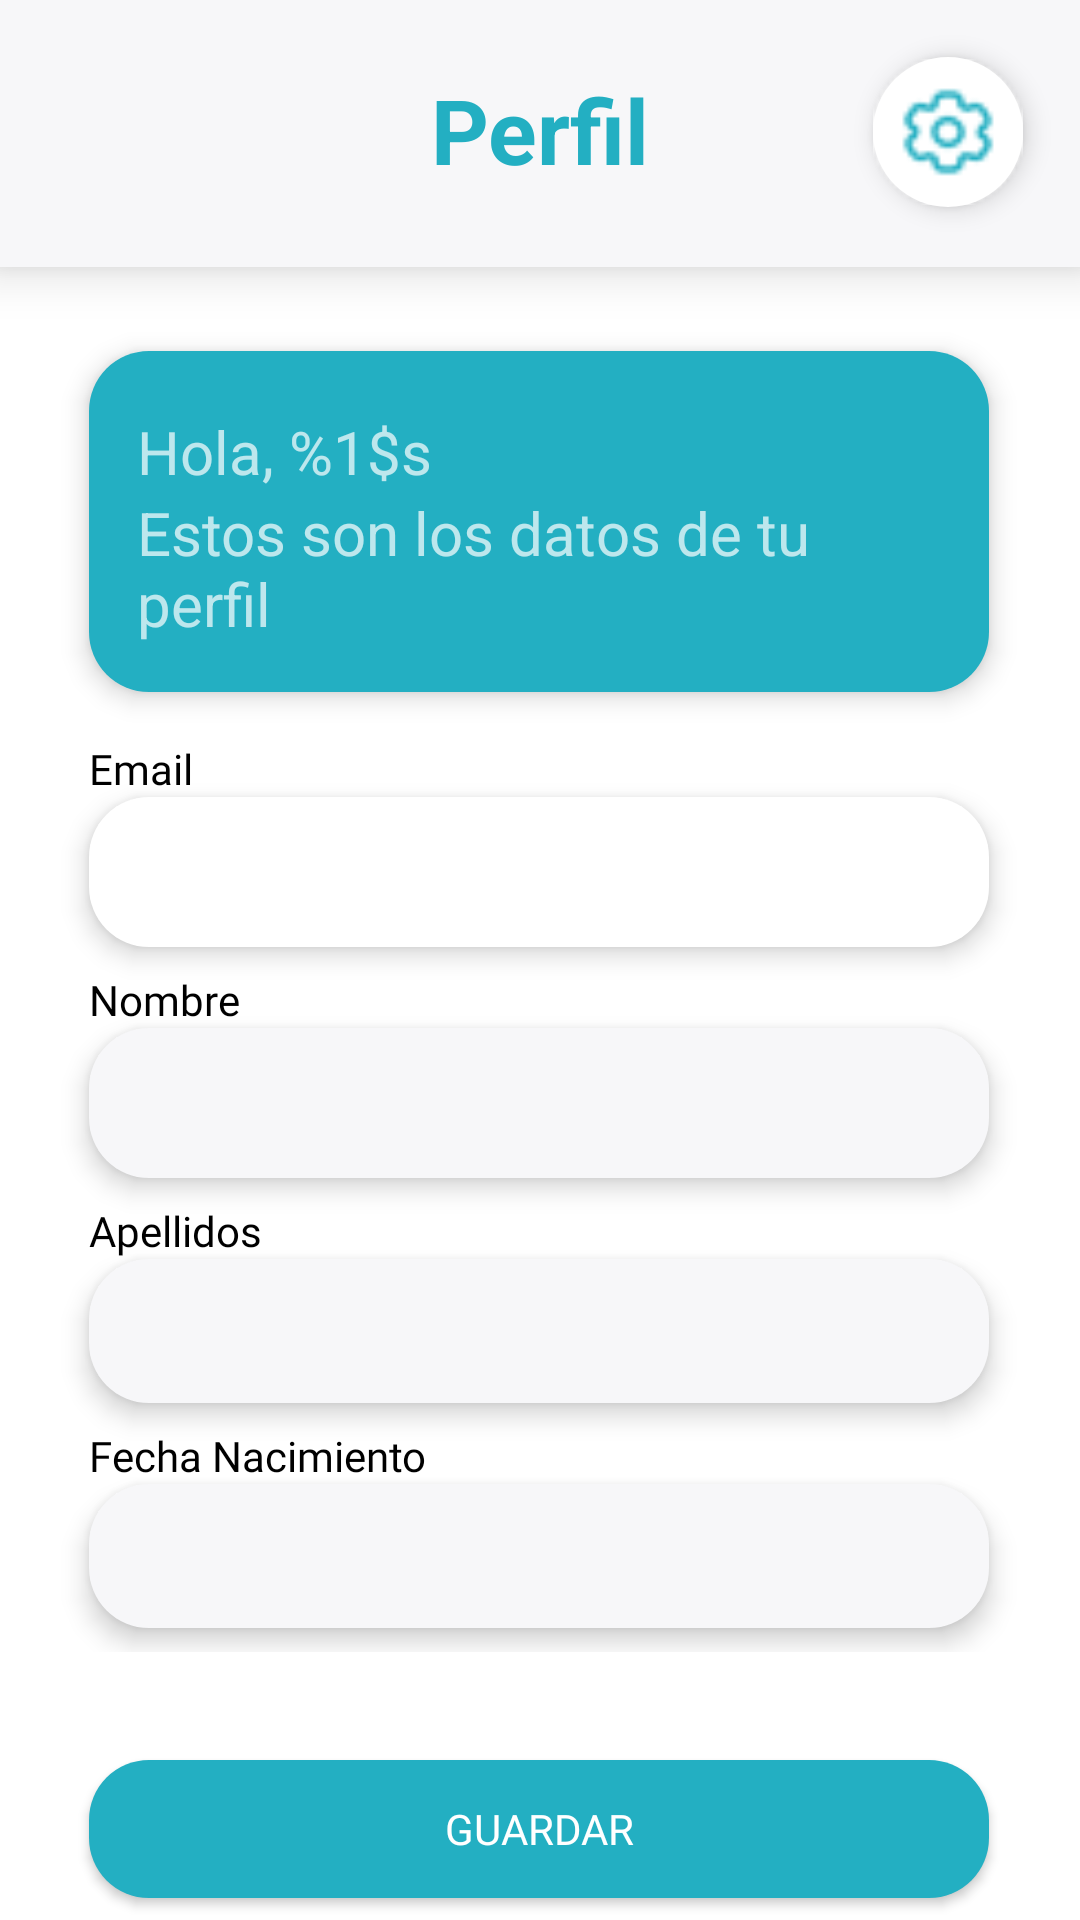

Where to tap for icons on this 1080*1920 app screen, as (x,y):
ajustes: (948,132)
